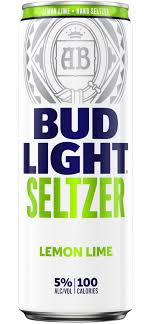can: (12, 1, 140, 324)
